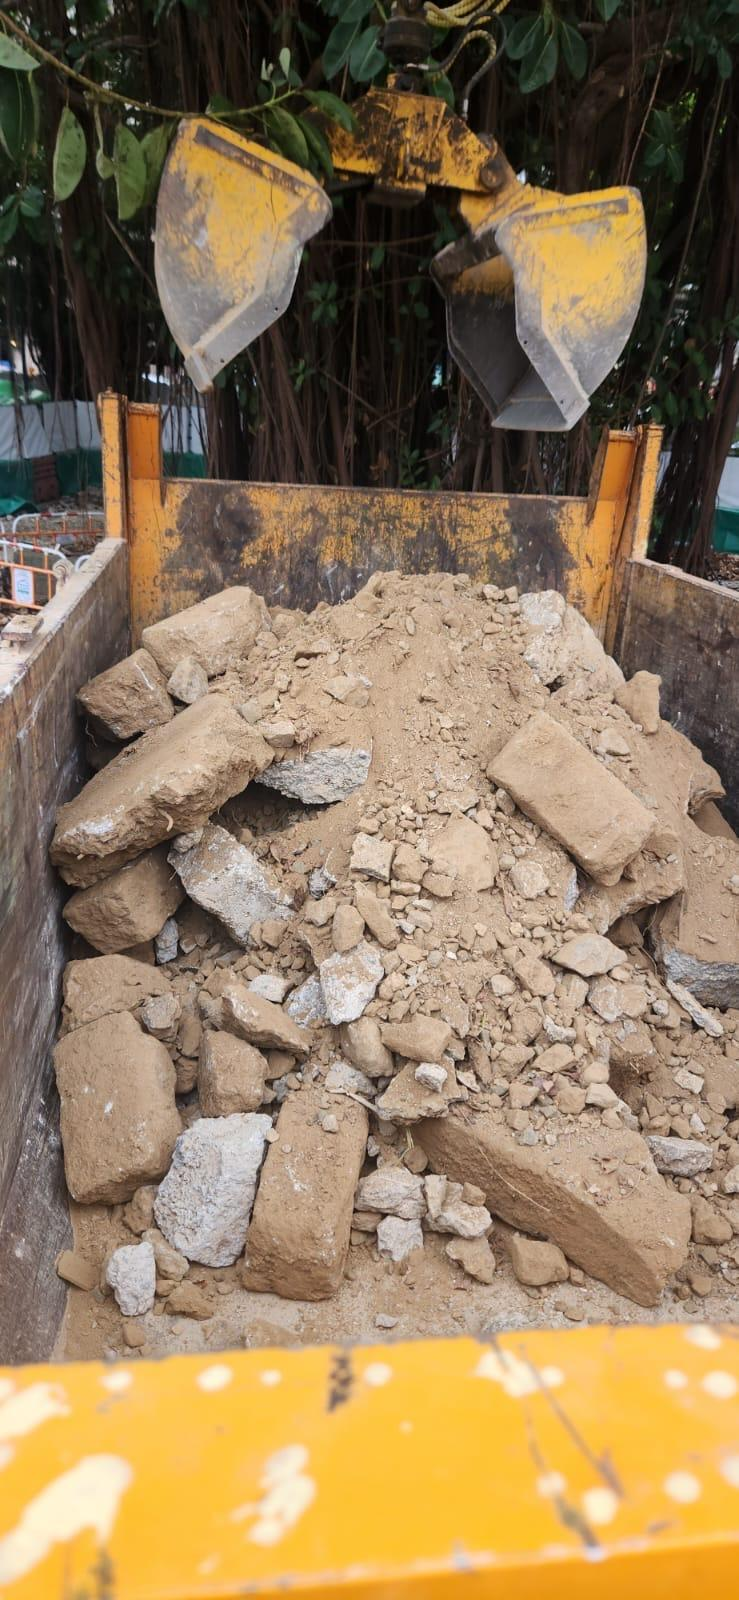dry: (48, 588, 739, 1345)
